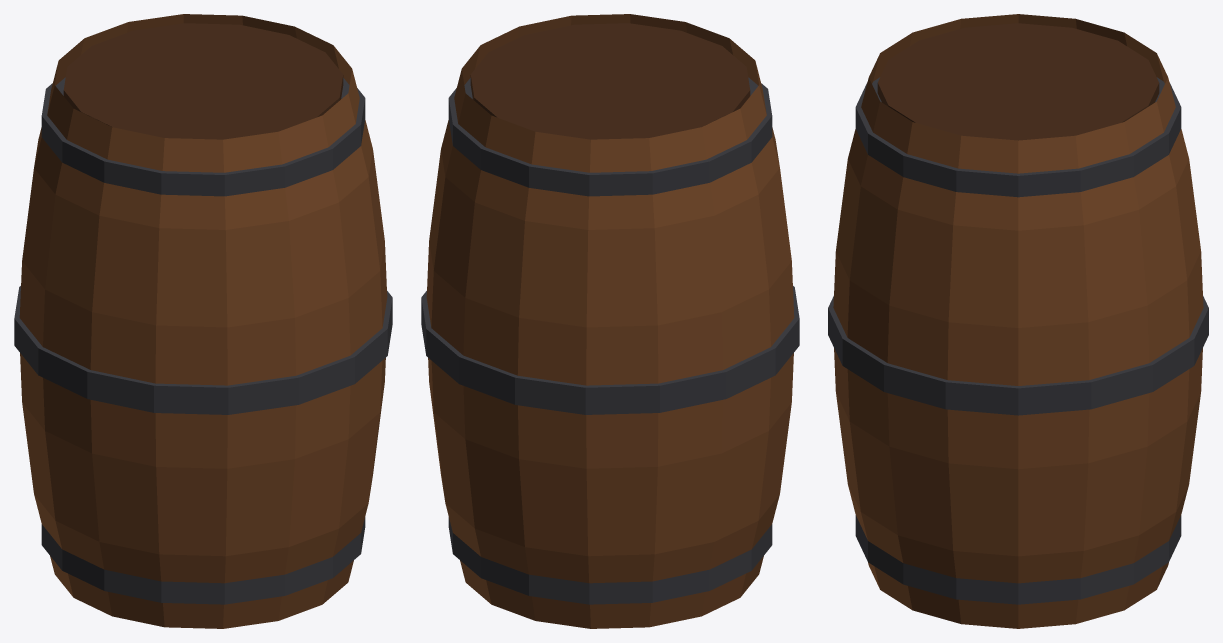
File: barrel.obj
The picture shows the model from 3 angles, left to right: view 1: azimuth 30°, elevation 25°; view 2: azimuth 150°, elevation 25°; view 3: azimuth 270°, elevation 25°; orthographic projection.
Visible parts, largest first — view 1: Cone.004, Cone.001, Cone.005, Cylinder.003, Cone.003, Cone.002, Cone, Cylinder.001, Cylinder.002, Cylinder; view 2: Cone.004, Cone.001, Cone.005, Cylinder.003, Cone.003, Cone.002, Cone, Cylinder.001, Cylinder.002, Cylinder; view 3: Cone.004, Cone.001, Cone.005, Cylinder.003, Cone.003, Cone.002, Cone, Cylinder.001, Cylinder.002, Cylinder.
Part boxes in pixels (x1,y1,x2,y2): Cone.004: (22,150,384,327); Cone.001: (22,387,384,556); Cone.005: (34,14,372,229); Cylinder.003: (63,23,343,139); Cone.003: (19,241,387,385); Cone.002: (20,353,385,468); Cone: (34,494,368,628); Cylinder.001: (14,286,392,414); Cylinder.002: (41,77,365,196); Cylinder: (41,517,365,604); Cone.004: (429,150,791,327); Cone.001: (429,387,791,556); Cone.005: (441,14,779,229); Cylinder.003: (470,23,750,139); Cone.003: (426,241,794,385); Cone.002: (428,353,793,468); Cone: (445,494,779,628); Cylinder.001: (421,286,799,414); Cylinder.002: (448,77,772,196); Cylinder: (448,517,772,604); Cone.004: (836,159,1200,327); Cone.001: (836,393,1200,556); Cone.005: (848,14,1188,230); Cylinder.003: (877,23,1159,140); Cone.003: (833,251,1203,385); Cone.002: (834,348,1202,469); Cone: (848,485,1188,628); Cylinder.001: (828,296,1208,415); Cylinder.002: (855,77,1181,197); Cylinder: (855,515,1181,604).
Bounding box in the file's own units: 0.636 × 0.9 × 0.636.
